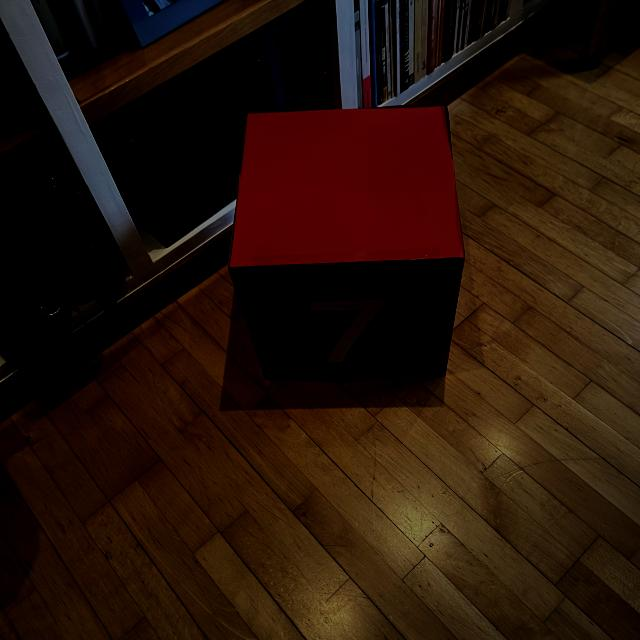box: (227, 101, 468, 383)
